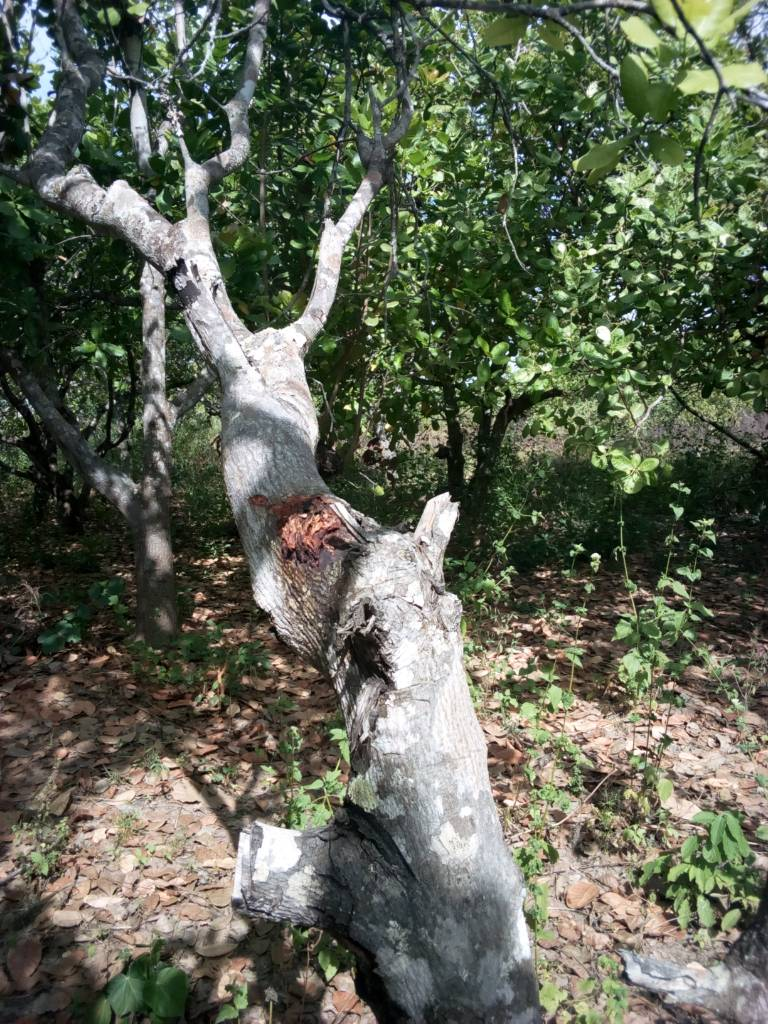Gommose: (247, 488, 354, 599)
